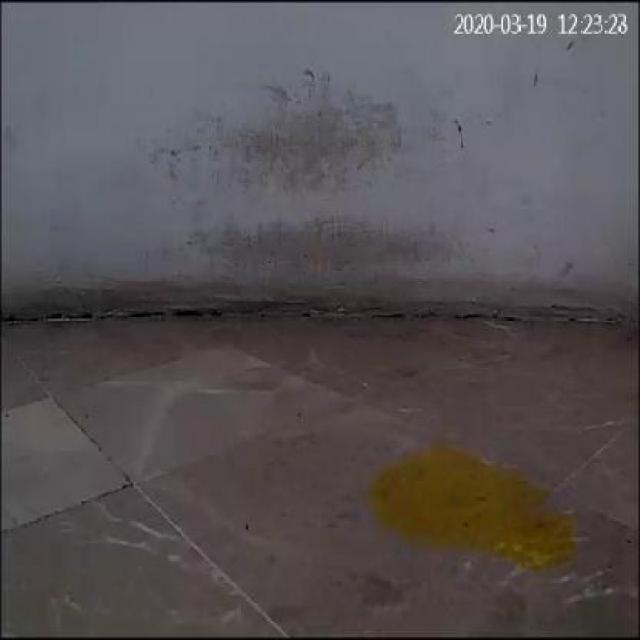spill: (363, 443, 577, 571)
